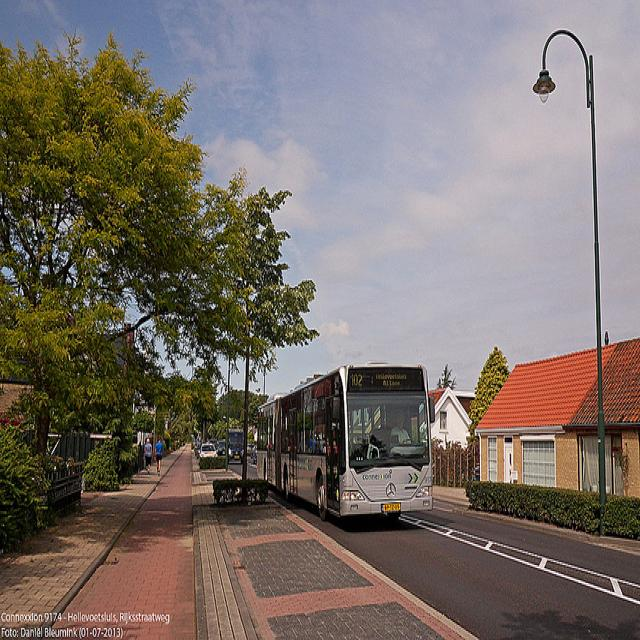Vehicle: (259, 364, 434, 518), (229, 428, 244, 464), (198, 443, 218, 458), (218, 440, 226, 456), (252, 447, 258, 463)
